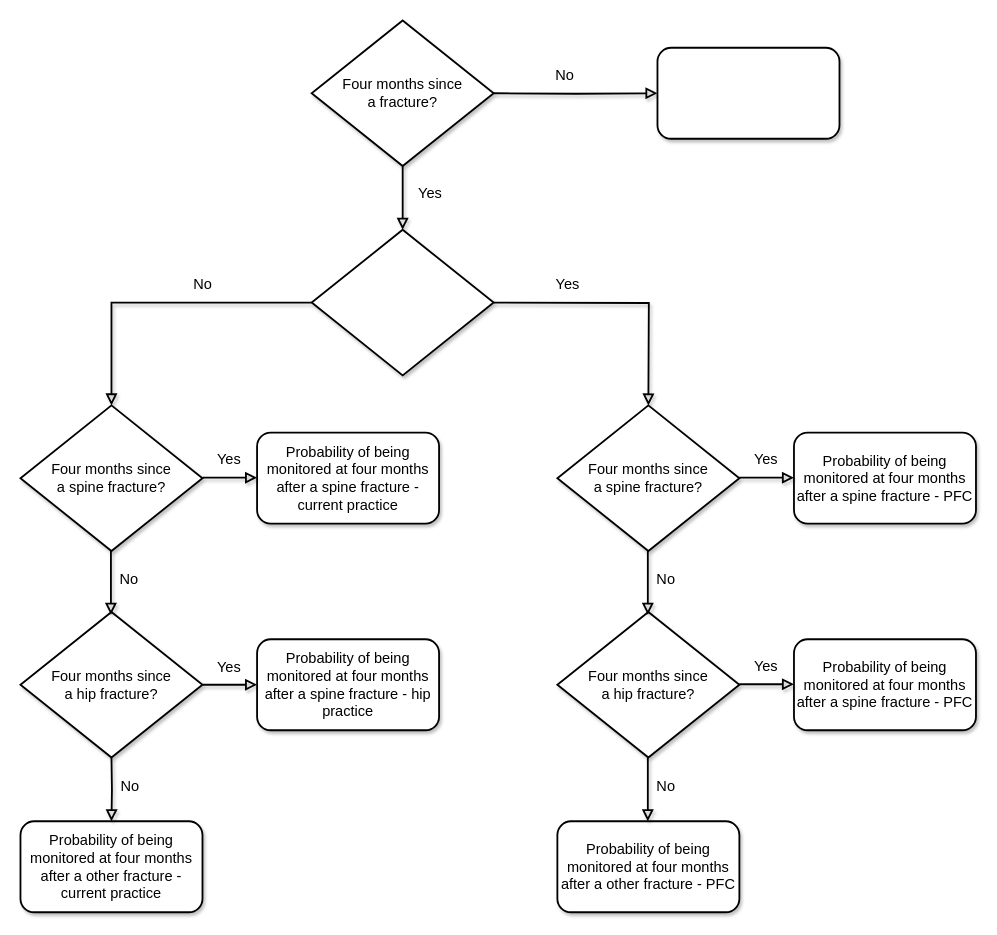
Image size: 997x935. Some labels were removed from this diagram. Each missing label, with the centre of its shape:
"PFC?" belongs at pixel 403 303.
"Remain as in previous cycle" belongs at pixel 748 94.
